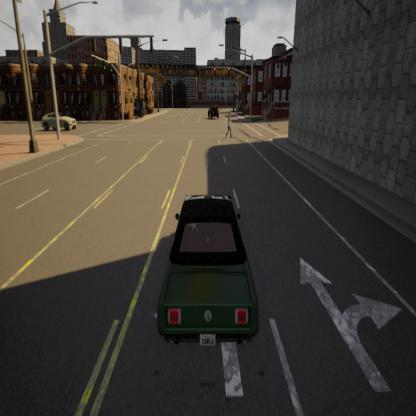Cars: (150, 188, 263, 358), (41, 110, 79, 136), (206, 103, 219, 124)
Pedestrian: (222, 112, 234, 142)
